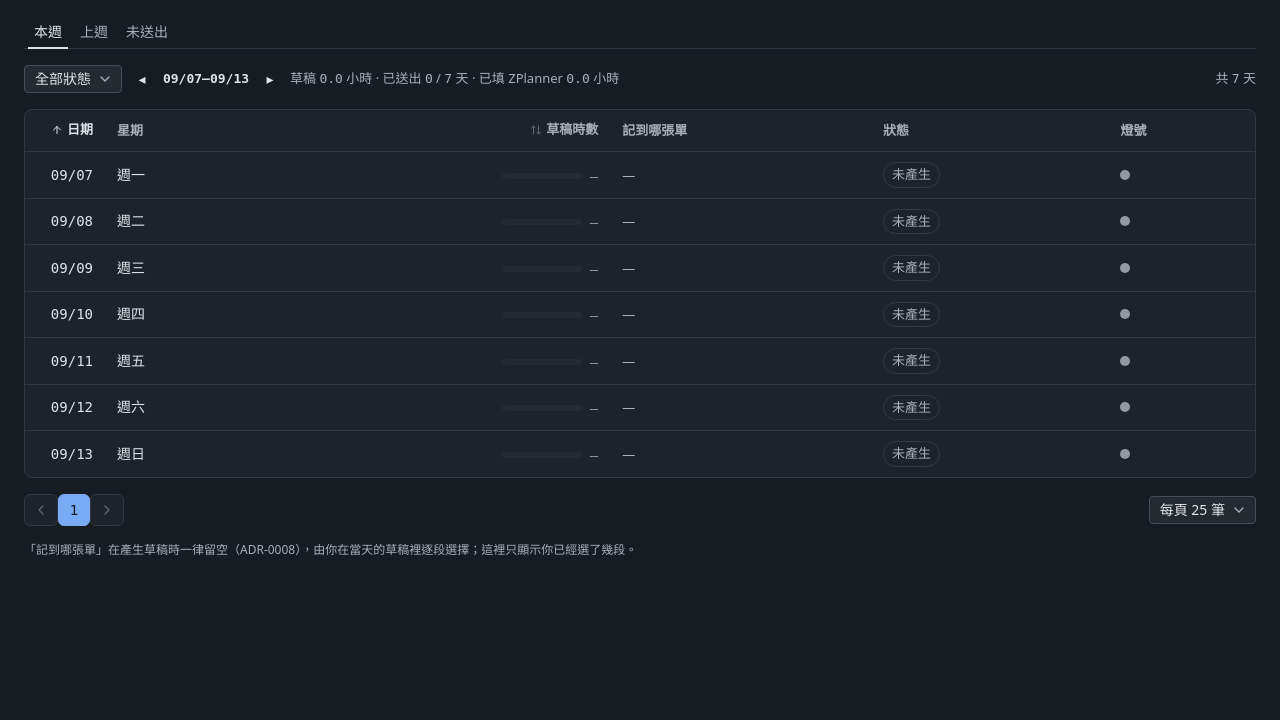
翻週：可以翻到任何一週（與舊週欄同一套行為） › 🔴 翻到更早的週，回應的 week_start 對不上 → 不畫、照實說
Click the button named "上一週" at (142, 79), box top-left (130, 67), bottom-right (154, 91)
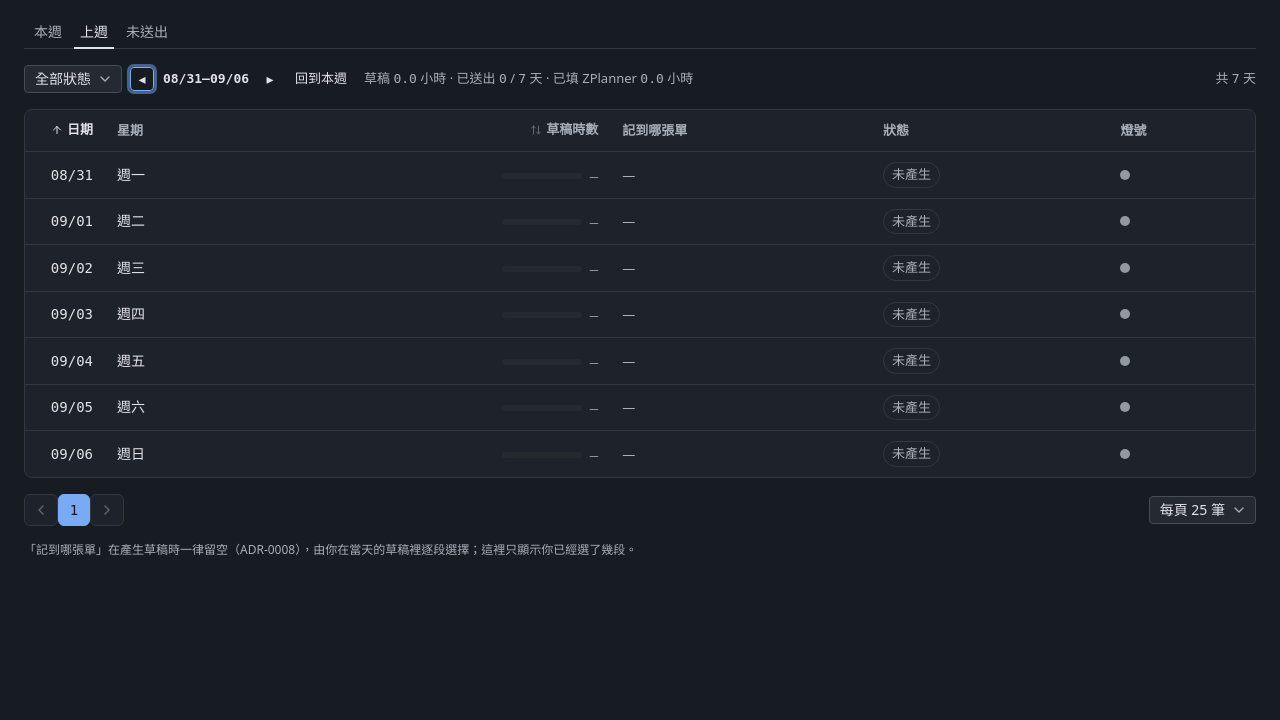
Click the button named "上一週" at (142, 79), box top-left (130, 67), bottom-right (154, 91)
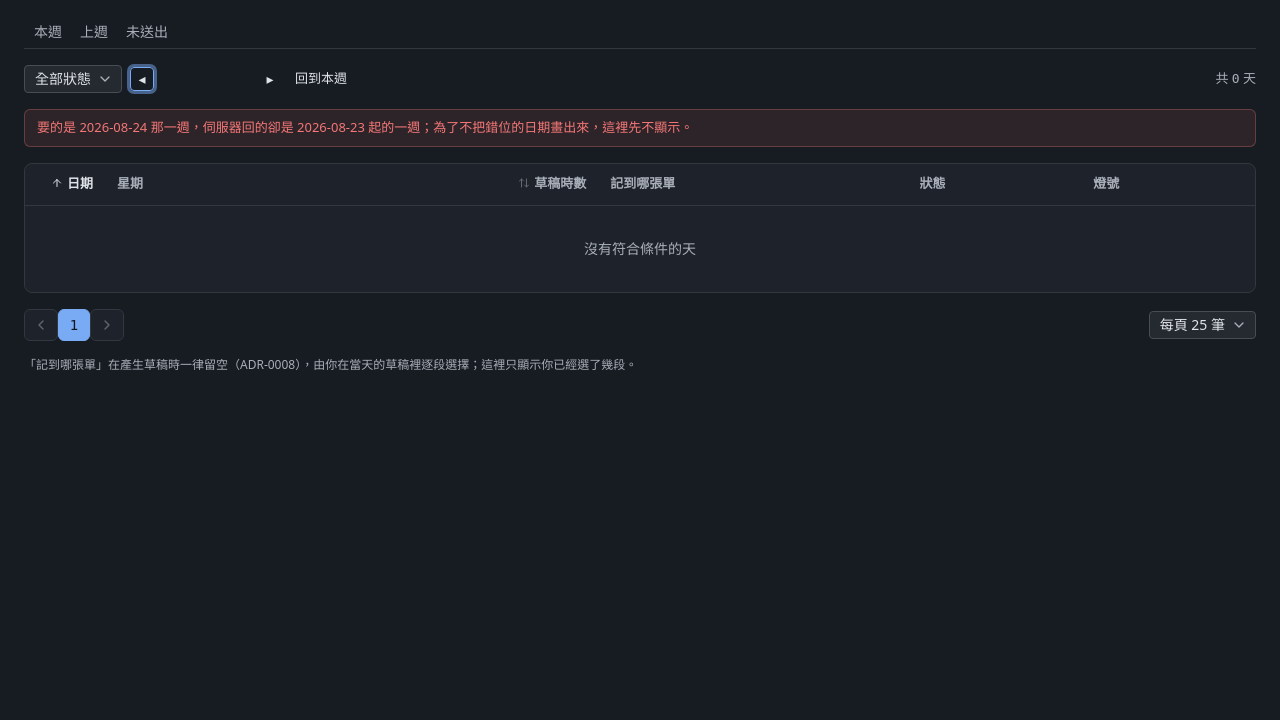
expect the heading named "週次" does not show "08/23": met, box top-left (158, 69), bottom-right (254, 89)
expect the message shows "伺服器回的卻是 2026-08-23": met, box top-left (24, 109), bottom-right (1256, 146)
expect the heading "08/31" is gone: met
